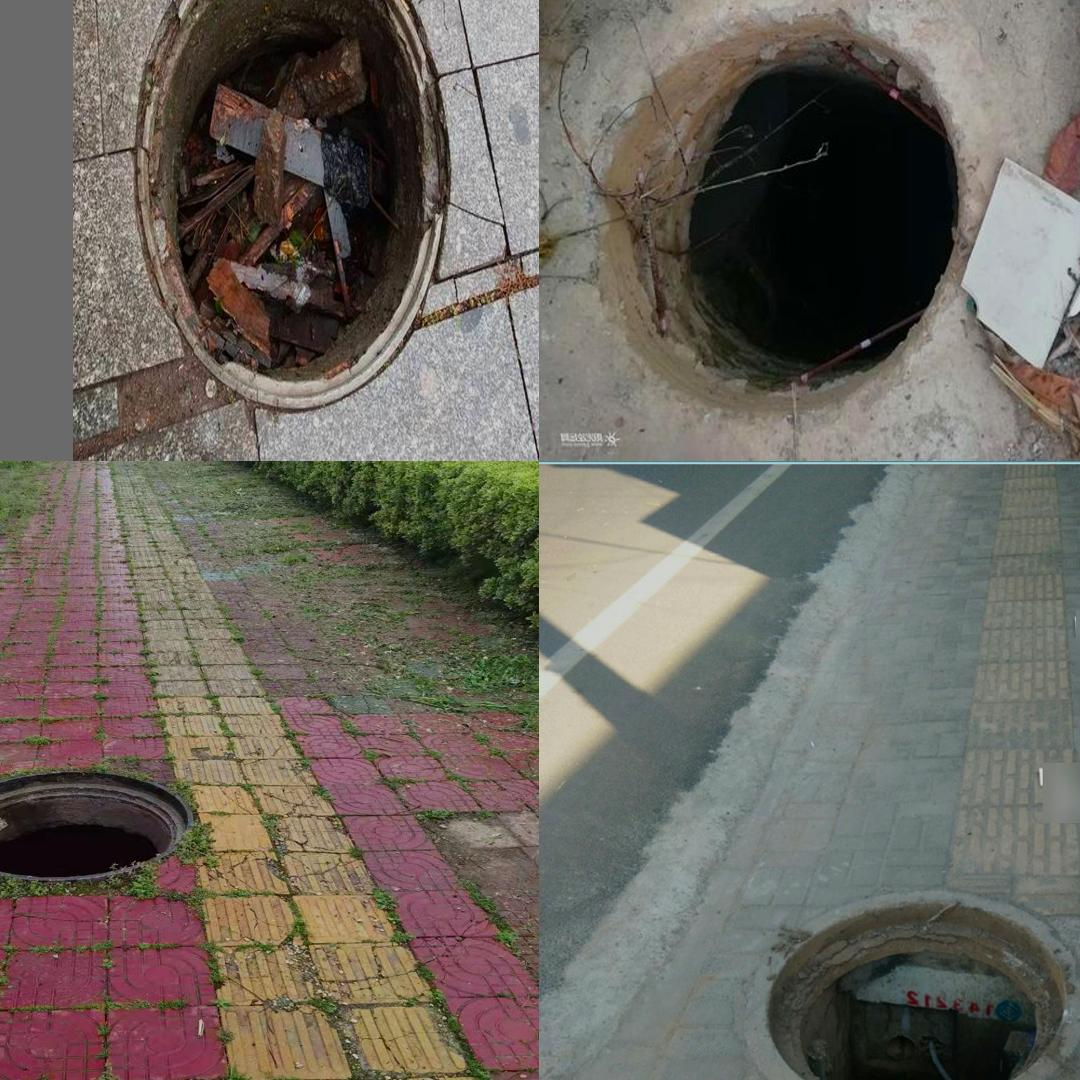lose: (590, 0, 982, 423), (130, 0, 453, 411), (742, 889, 1080, 1080), (0, 767, 191, 882)
